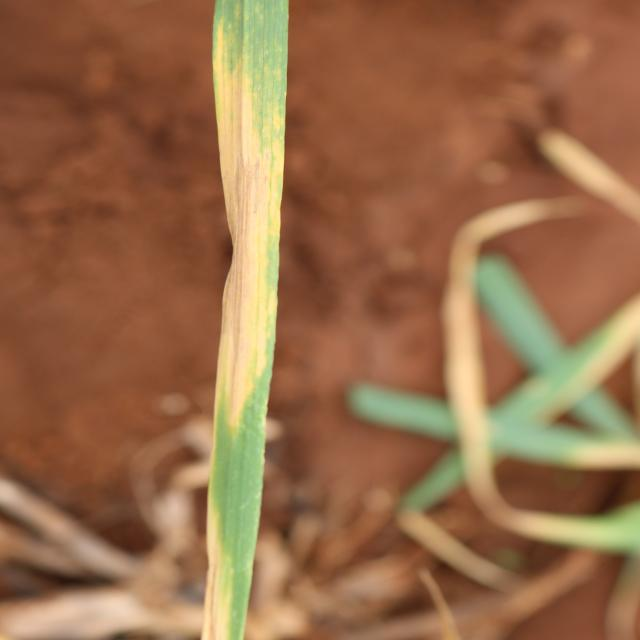Septoria: (200, 1, 290, 638)
